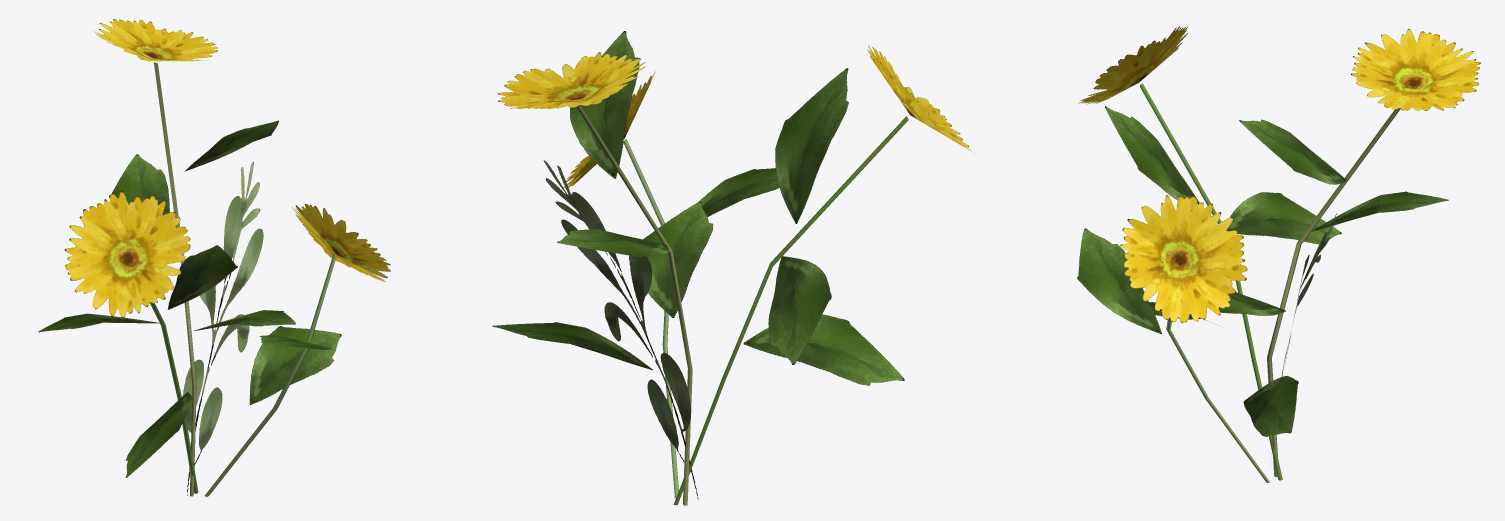
3 renders of one model, left to right at view 1: azimuth 30°, elevation 25°; view 2: azimuth 150°, elevation 25°; view 3: azimuth 270°, elevation 25°, orthographic. The views are drawn at different scales.
Parts seen in each view (by area): view 1: F11; view 2: F11; view 3: F11.
Boxes of the visible parts, <box> form: F11: <box>38,19,390,496</box>; F11: <box>492,31,974,505</box>; F11: <box>1077,26,1480,482</box>.
Size of the model in its own units: 189 by 211 by 189.
